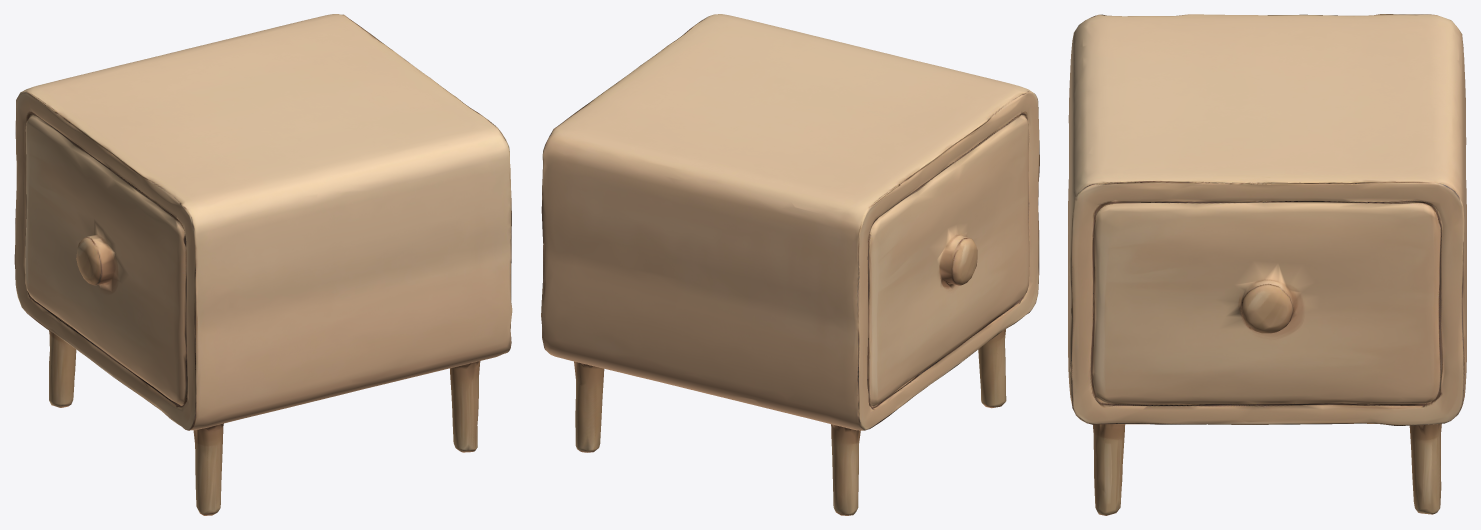
File: raw_nightstand_r2.glb
3 renders of one model, left to right at view 1: azimuth 30°, elevation 25°; view 2: azimuth 150°, elevation 25°; view 3: azimuth 270°, elevation 25°, orthographic. The views are drawn at different scales.
Visible parts, largest first — view 1: tripo_node_15300545-e967-4f01-a229-98ae1b2c1238; view 2: tripo_node_15300545-e967-4f01-a229-98ae1b2c1238; view 3: tripo_node_15300545-e967-4f01-a229-98ae1b2c1238.
Part boxes in pixels (left/top/right/bottom): tripo_node_15300545-e967-4f01-a229-98ae1b2c1238: left=14, top=14, right=512, bottom=515; tripo_node_15300545-e967-4f01-a229-98ae1b2c1238: left=541, top=14, right=1039, bottom=515; tripo_node_15300545-e967-4f01-a229-98ae1b2c1238: left=1068, top=14, right=1466, bottom=515.
Bounding box in the file's own units: 1 × 0.8532 × 0.886.
Materials: 1 (1 with a texture image).
